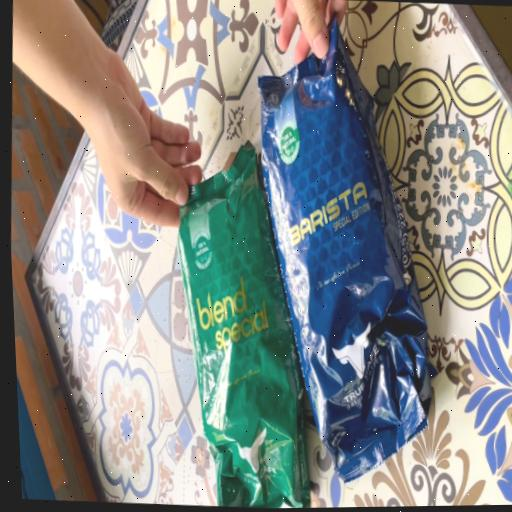cafe_hat: (258, 19, 430, 481)
cafe_xay: (178, 142, 310, 508)
